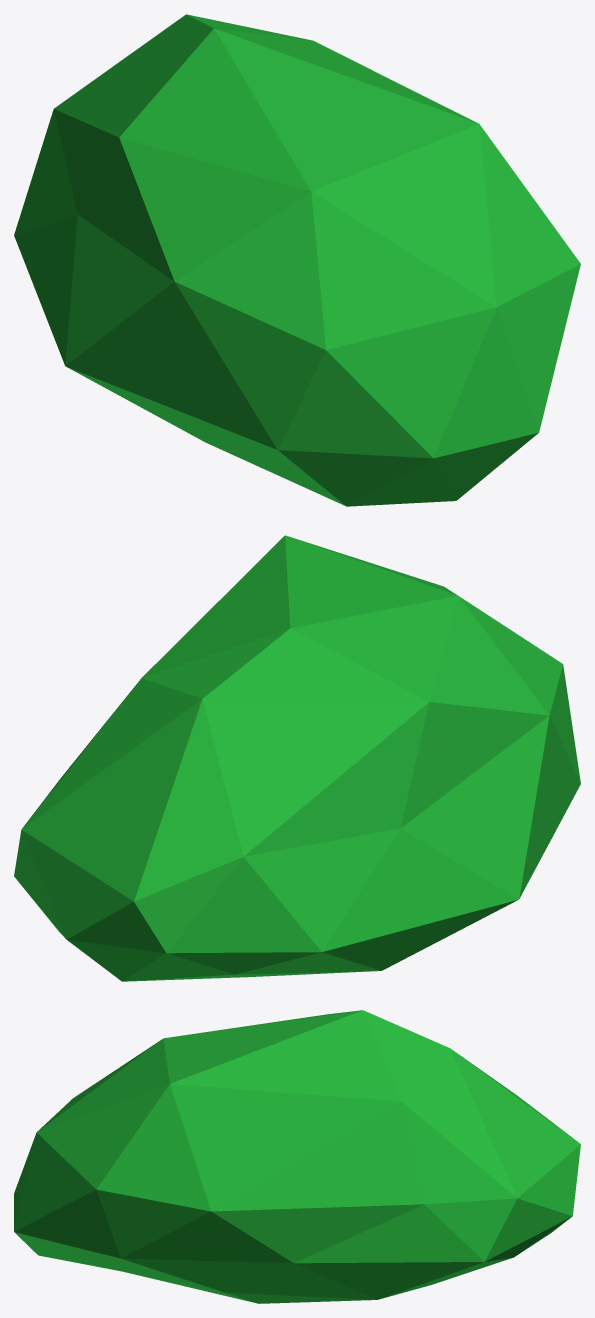
Rendered from BushA.fbx.
The picture shows the model from 3 angles, top to bottom: view 1: azimuth 30°, elevation 25°; view 2: azimuth 150°, elevation 25°; view 3: azimuth 270°, elevation 25°; orthographic projection. The views are drawn at different scales.
Visible parts, largest first — view 1: Icosphere.002; view 2: Icosphere.002; view 3: Icosphere.002.
Boxes of the visible parts, x1,y1,x2,y2 form: Icosphere.002: (14,14,580,506); Icosphere.002: (14,535,580,981); Icosphere.002: (14,1010,580,1303).
Size of the model in its own units: 272 by 219 by 432.
